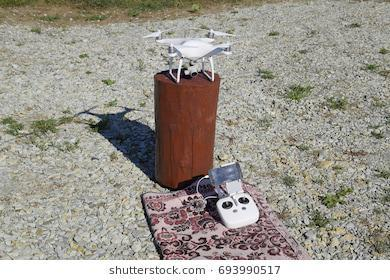drone: (136, 20, 248, 93)
